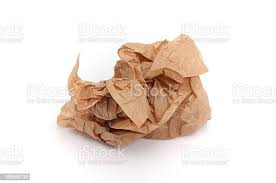crumpled paper: (57, 33, 217, 146)
